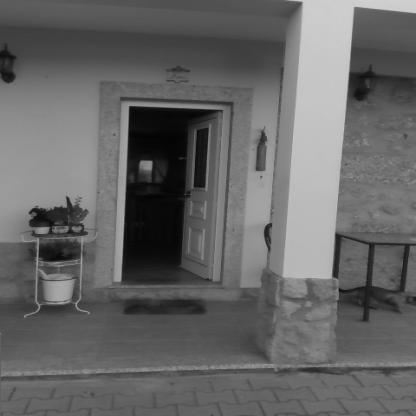open: (108, 92, 240, 303)
